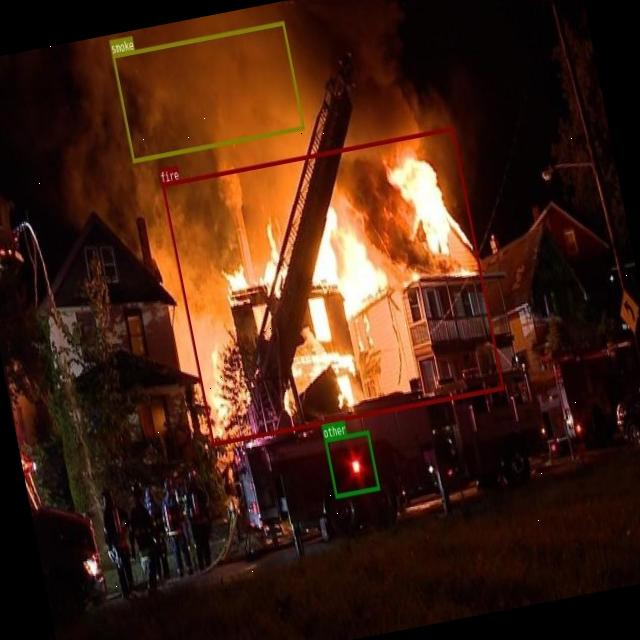fire: (161, 126, 504, 446)
smoke: (112, 20, 306, 162)
